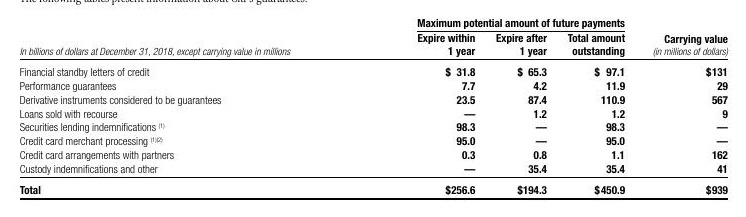table: (0, 0, 746, 217)
